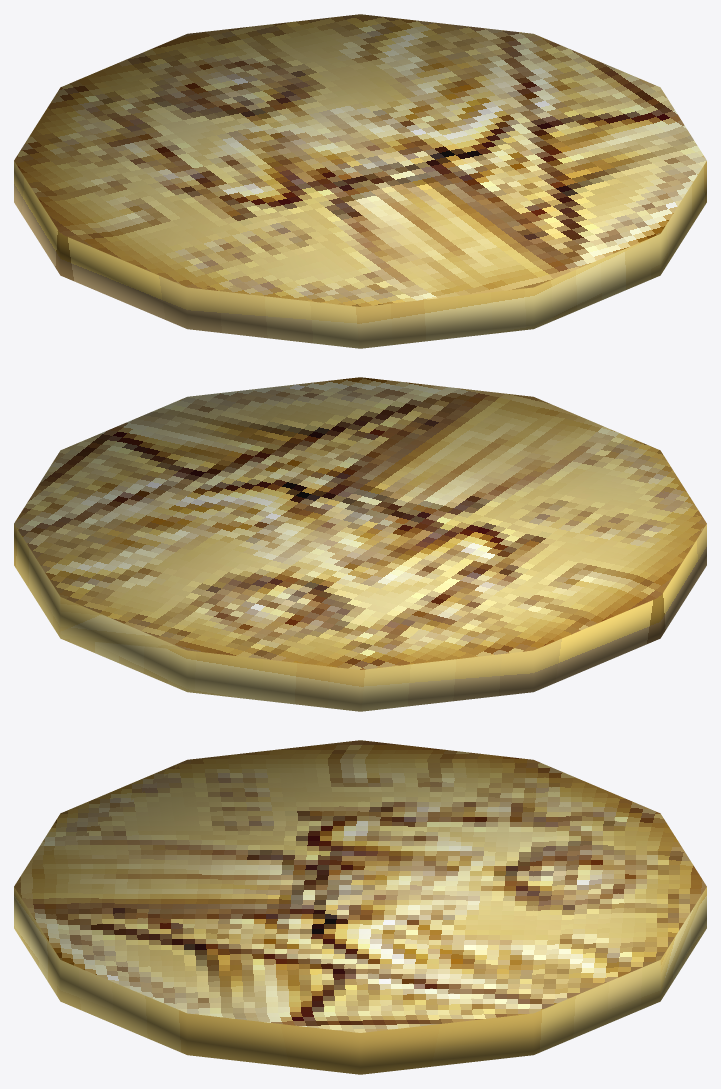
The model's file is WorldItem-HCMoney_GoldCoin.fbx.
The picture shows the model from 3 angles, top to bottom: view 1: azimuth 30°, elevation 25°; view 2: azimuth 150°, elevation 25°; view 3: azimuth 270°, elevation 25°; orthographic projection.
Visible parts, largest first — view 1: GoldCoin; view 2: GoldCoin; view 3: GoldCoin.
Boxes of the visible parts, x1,y1,x2,y2 form: GoldCoin: (14,14,706,348); GoldCoin: (14,377,706,711); GoldCoin: (14,740,706,1074).
Bounding box in the file's own units: 0.0335 × 0.00222 × 0.0335.
